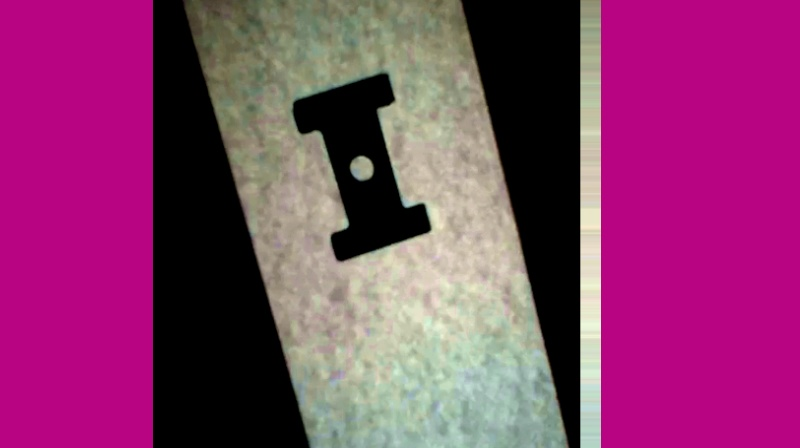O002: (289, 72, 432, 268)
